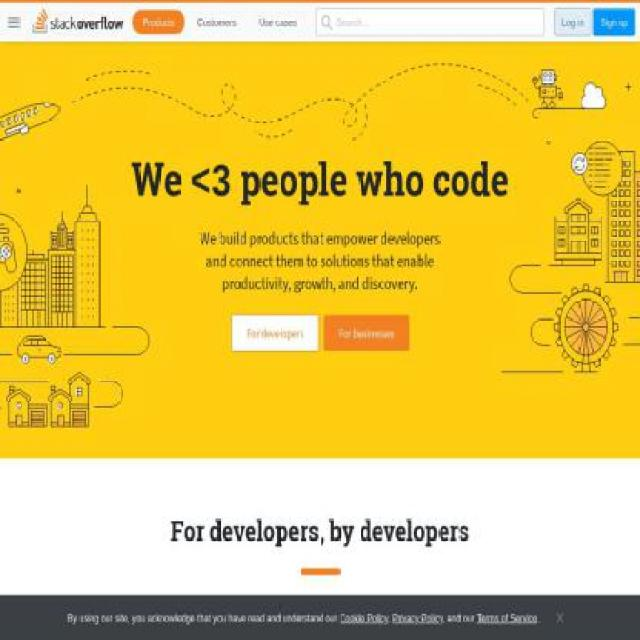button: (27, 2, 131, 42), (230, 314, 319, 352), (323, 314, 409, 352), (187, 10, 247, 35), (248, 10, 307, 35), (132, 10, 185, 35), (593, 9, 635, 36), (554, 9, 592, 36)
field: (314, 9, 546, 36)
